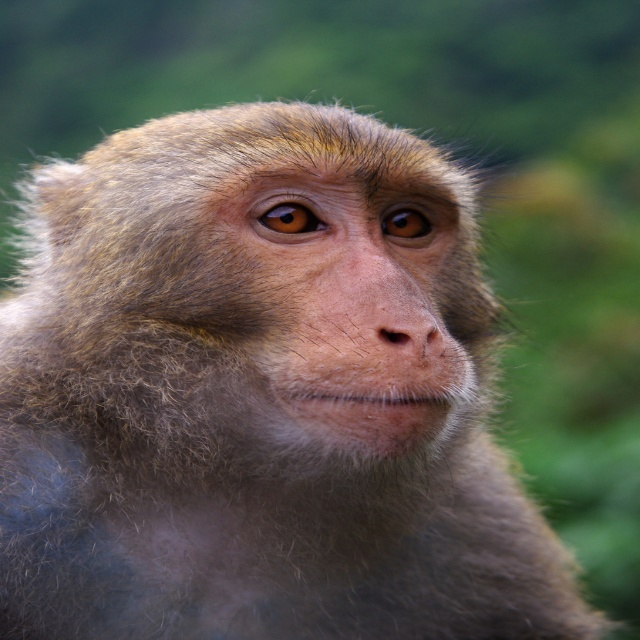Monkey: (0, 110, 627, 640)
